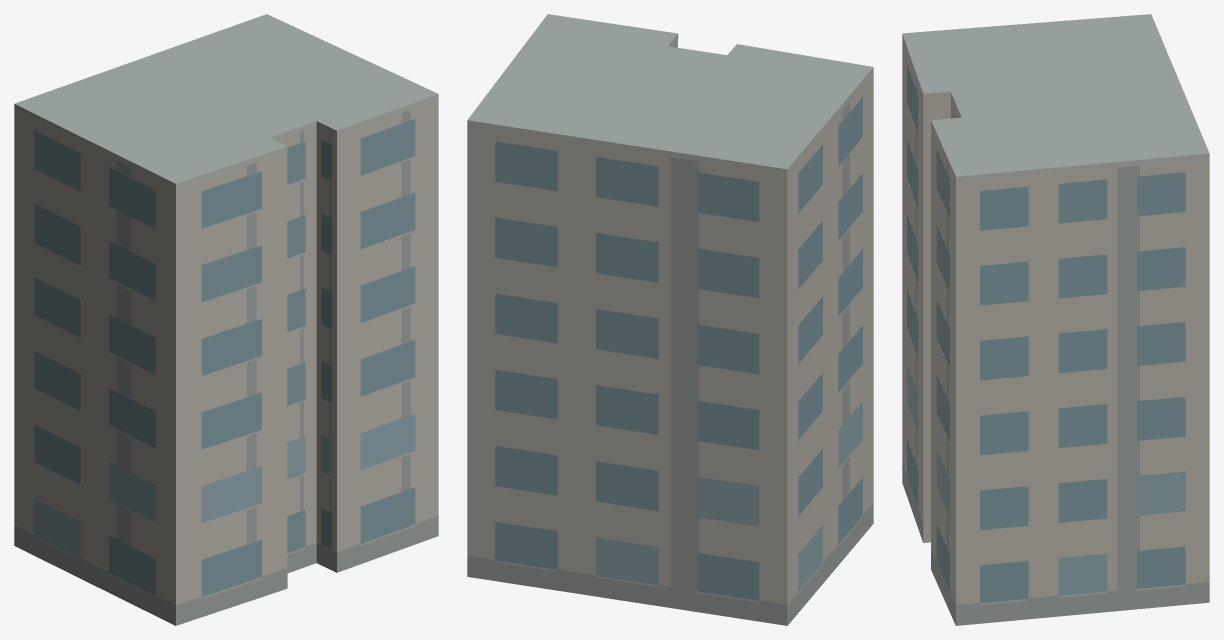
File: survey-upis-32872122.glb
3 views of the same model, side by side, from view 1: azimuth 30°, elevation 25°; view 2: azimuth 150°, elevation 25°; view 3: azimuth 270°, elevation 25° (orthographic). The views are drawn at different scales.
Visible parts, largest first — view 1: survey-upis-32872122.tmp; view 2: survey-upis-32872122.tmp; view 3: survey-upis-32872122.tmp.
Boxes of the visible parts, x1=… form: survey-upis-32872122.tmp: x1=14, y1=14, x2=438, y2=625; survey-upis-32872122.tmp: x1=467, y1=14, x2=873, y2=625; survey-upis-32872122.tmp: x1=902, y1=14, x2=1209, y2=625.
Size of the model in its own units: 14.62 by 18.8 by 11.67.
